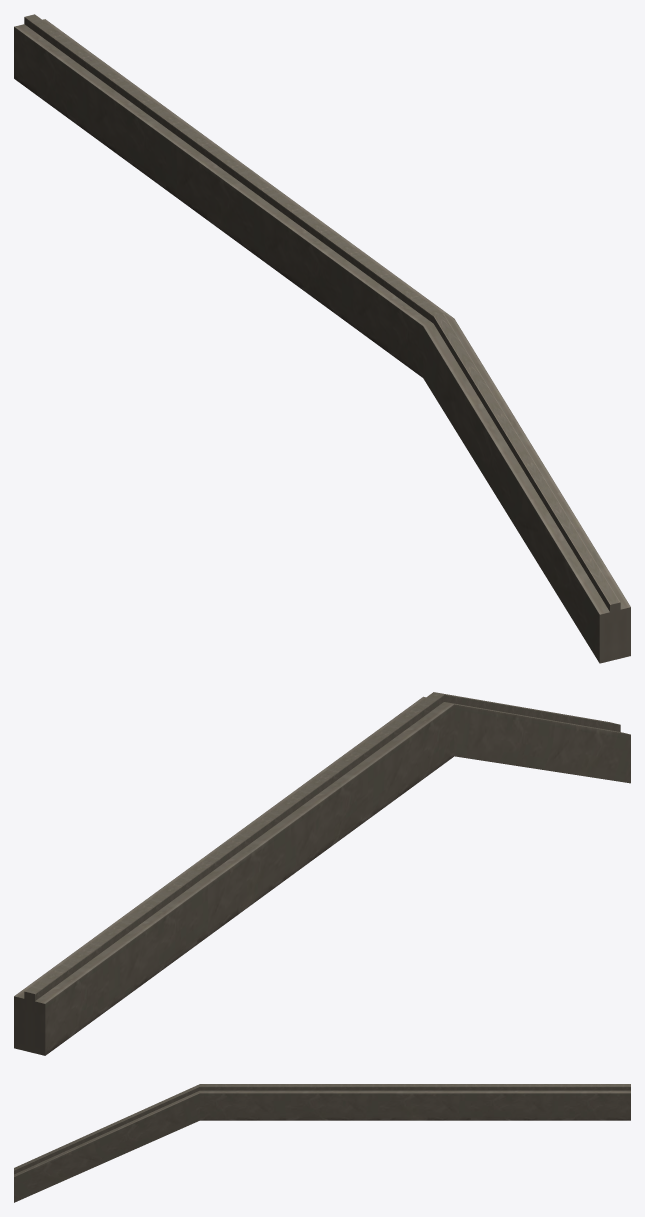
The model's file is Battle04_Cub_11.FBX.
The picture shows the model from 3 angles, top to bottom: view 1: azimuth 30°, elevation 25°; view 2: azimuth 150°, elevation 25°; view 3: azimuth 270°, elevation 25°; orthographic projection. The views are drawn at different scales.
Parts seen in each view (by area): view 1: Battle04_Cub_11; view 2: Battle04_Cub_11; view 3: Battle04_Cub_11.
Boxes of the visible parts, box(x1,y1,x2,y2) form: Battle04_Cub_11: box(14, 14, 630, 663); Battle04_Cub_11: box(14, 692, 630, 1055); Battle04_Cub_11: box(14, 1084, 630, 1202).
Size of the model in its own units: 0.7041 by 4.64 by 22.83.
